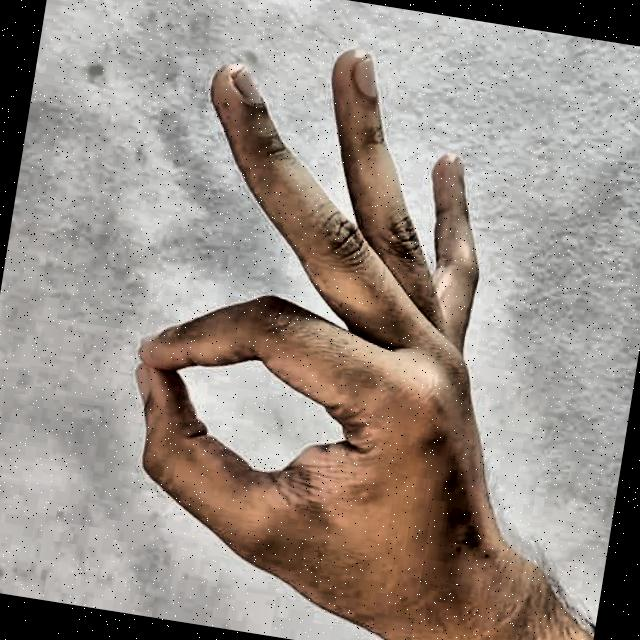Ca: (73, 4, 639, 640)
